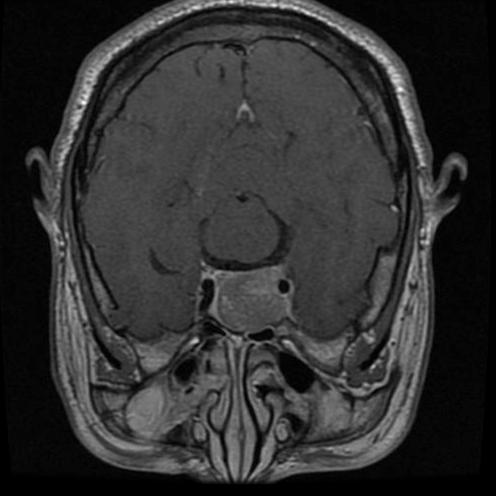Tumour-Pituitary: (190, 261, 298, 330)
